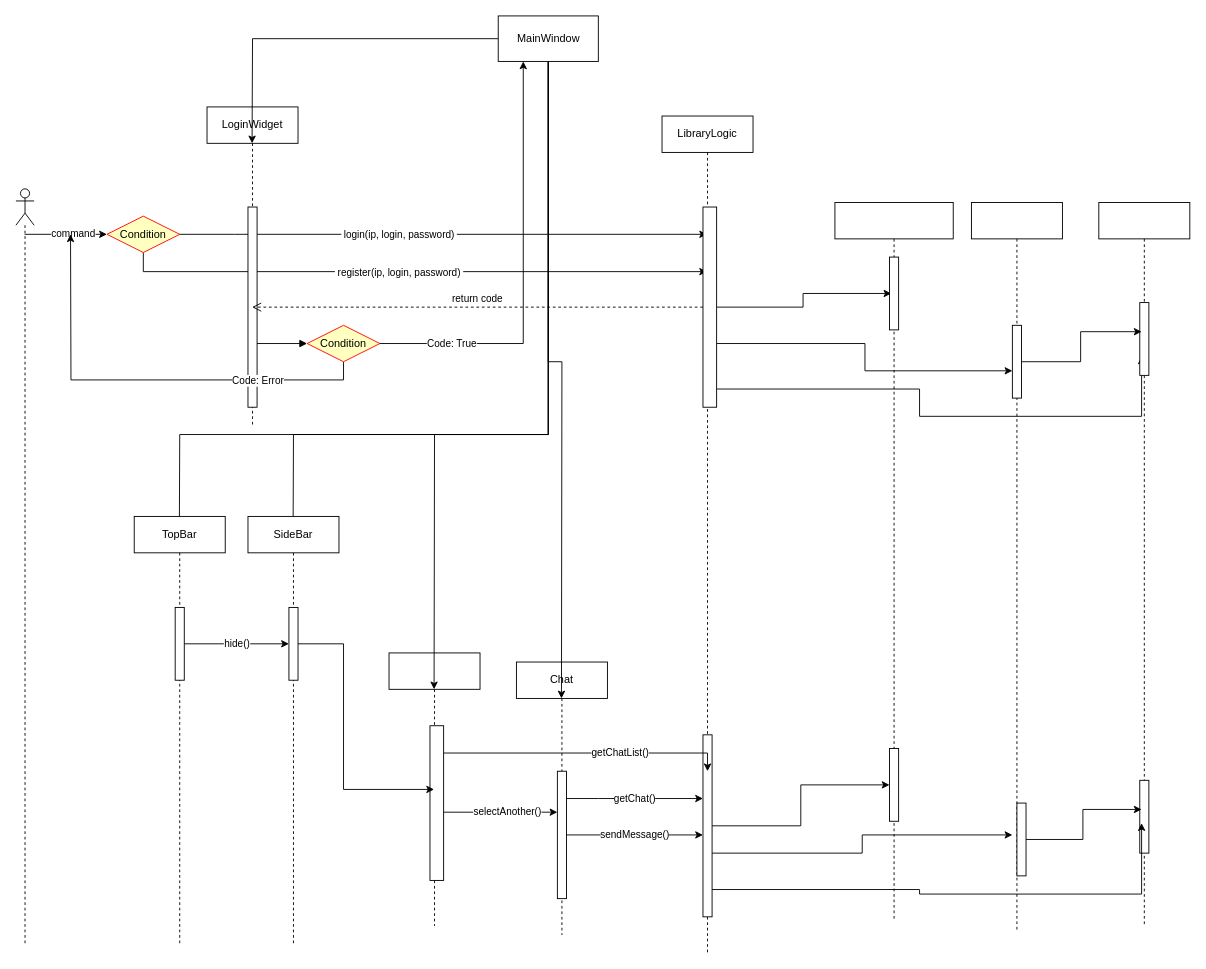
Image size: 1206x969. Some labels were removed from this diagram. Each missing label, with the box of its shape:
ChatList: (388, 652, 480, 926)
DataBase: (1098, 202, 1190, 926)
Server: (834, 202, 953, 921)
User: (971, 202, 1062, 930)
